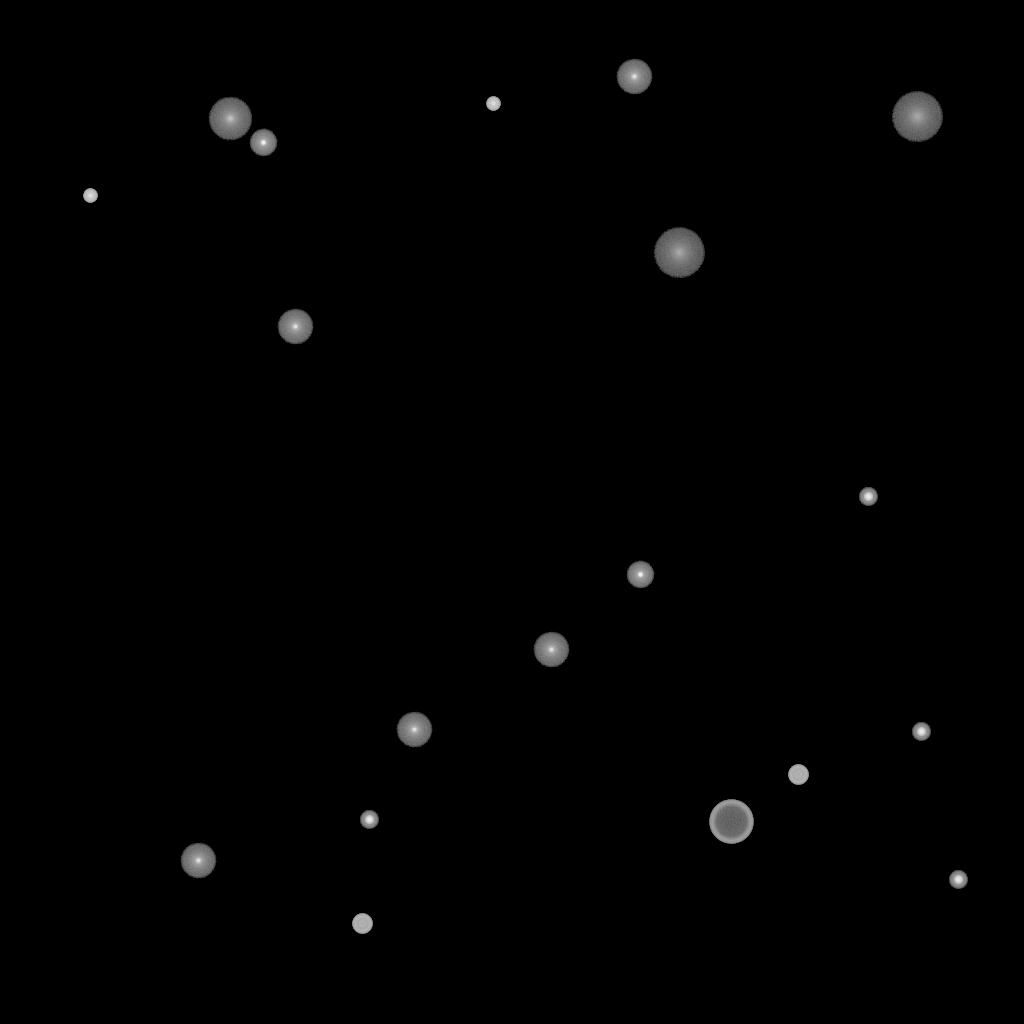depth:-10: (626, 561, 654, 589), (249, 129, 277, 157)
depth:-20: (912, 723, 930, 741), (360, 811, 378, 829), (859, 488, 877, 506), (949, 871, 967, 889)
depth:-30: (486, 97, 500, 111), (83, 189, 97, 203)
depth:-40: (352, 914, 372, 934), (788, 765, 808, 785)
depth:-70: (709, 800, 753, 844)
depth:0: (533, 632, 569, 668), (396, 712, 432, 748), (616, 59, 652, 95), (277, 309, 313, 345), (180, 843, 216, 879)
depth:10: (208, 97, 252, 141)
depth:20: (891, 92, 943, 142), (653, 228, 705, 278)
